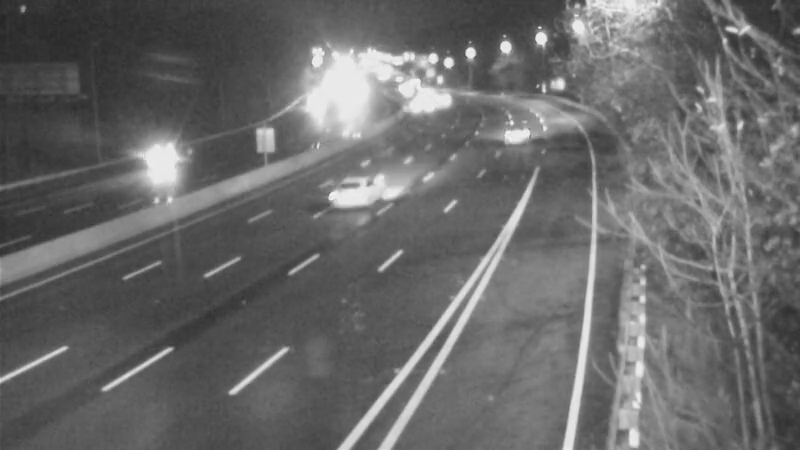vehicle: (289, 153, 369, 233), (119, 118, 199, 198), (385, 82, 435, 132), (481, 107, 531, 157)
